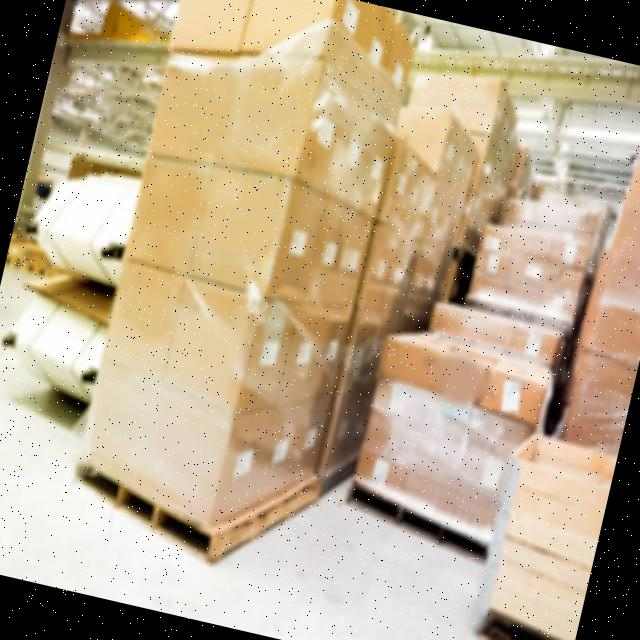Wooden-Pallets: (67, 450, 323, 569)
